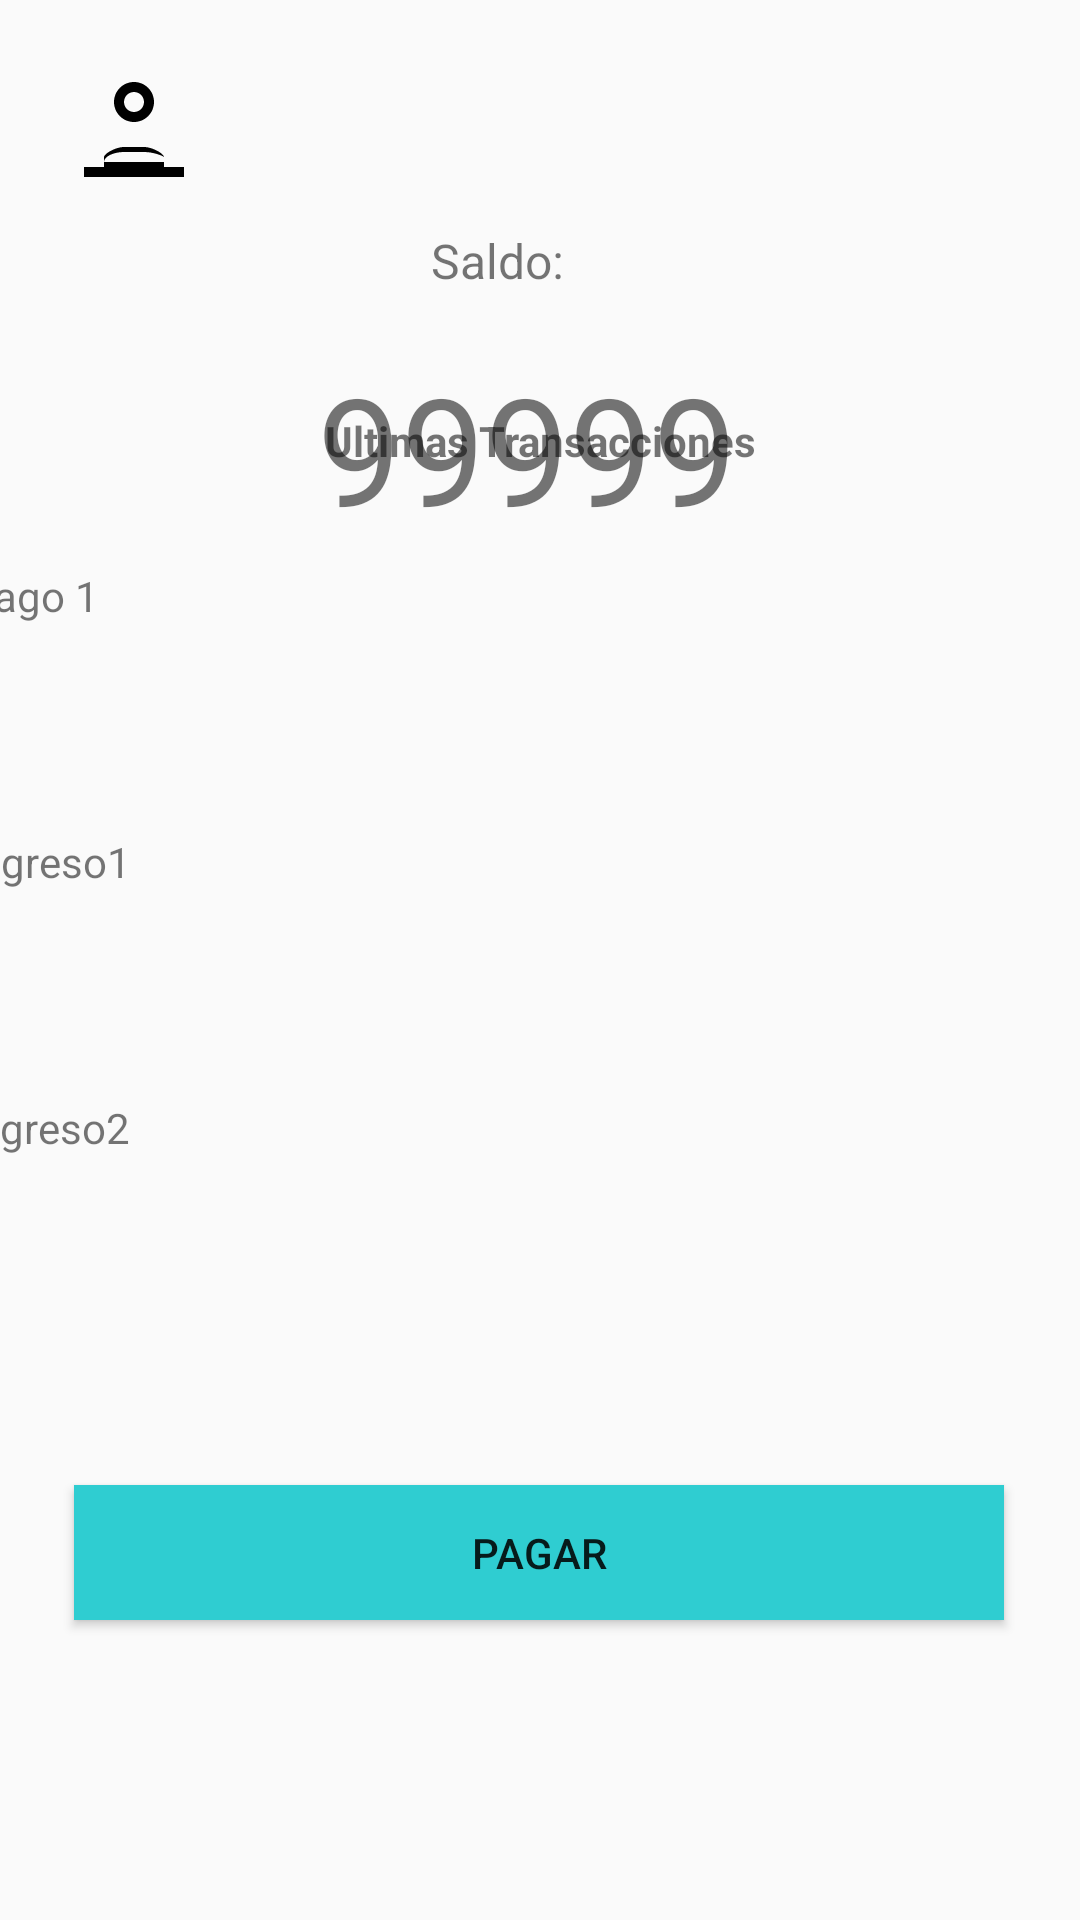

Locate icon controls on the screen. Image size 1080x1920, boxes as (x1, y1, x2, y2).
siluetapersona: (84, 82, 184, 177)
